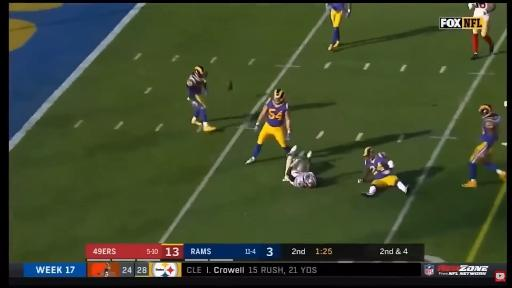Helmet: (272, 90, 285, 103), (478, 104, 491, 116), (193, 67, 205, 79), (364, 146, 374, 159), (306, 174, 316, 187)
Jersey: (365, 154, 391, 179), (480, 113, 500, 145), (266, 100, 288, 127), (187, 74, 206, 96), (291, 172, 314, 187), (474, 3, 489, 20), (328, 3, 345, 11)
Player: (463, 105, 506, 187), (246, 89, 290, 163), (358, 147, 407, 197), (187, 66, 216, 131), (283, 146, 316, 188), (468, 3, 495, 53), (326, 3, 351, 50), (99, 263, 115, 277)
